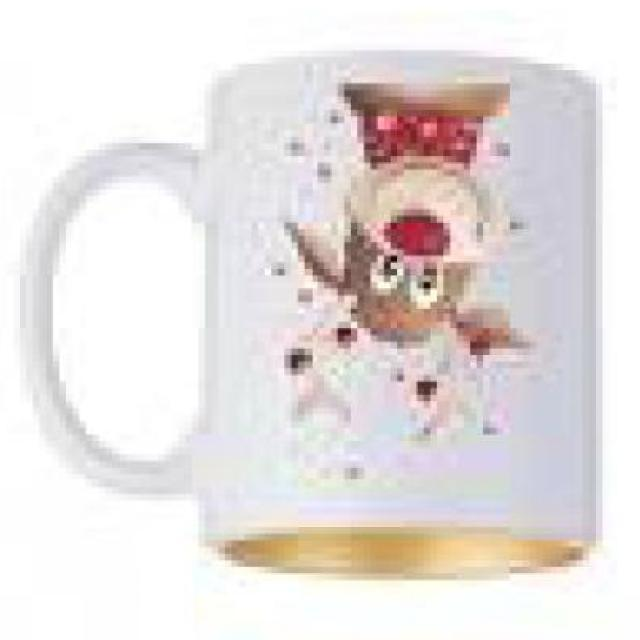cup: (20, 49, 609, 579)
